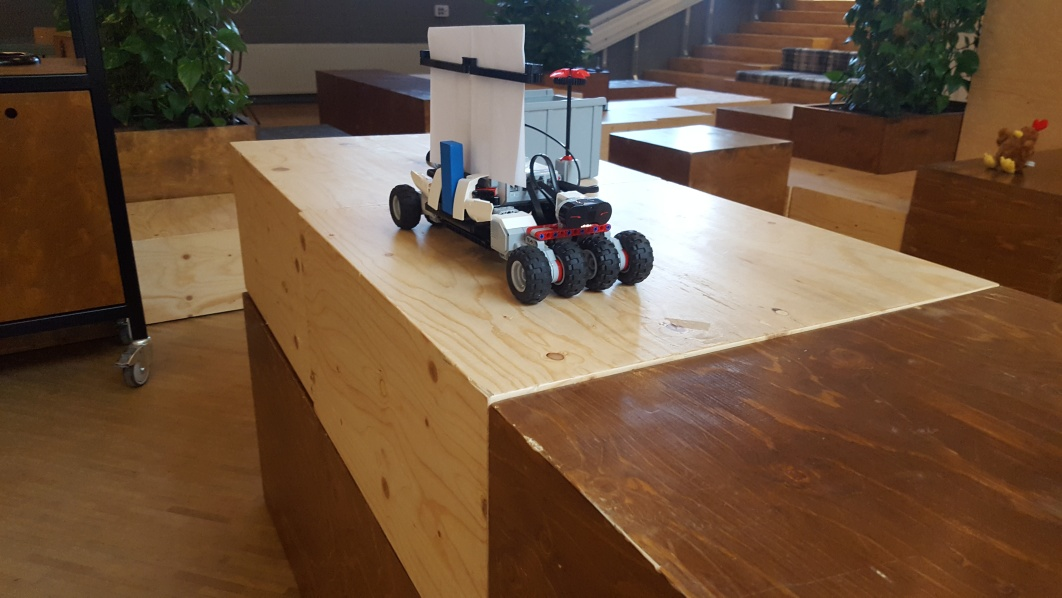car: (388, 24, 655, 305)
